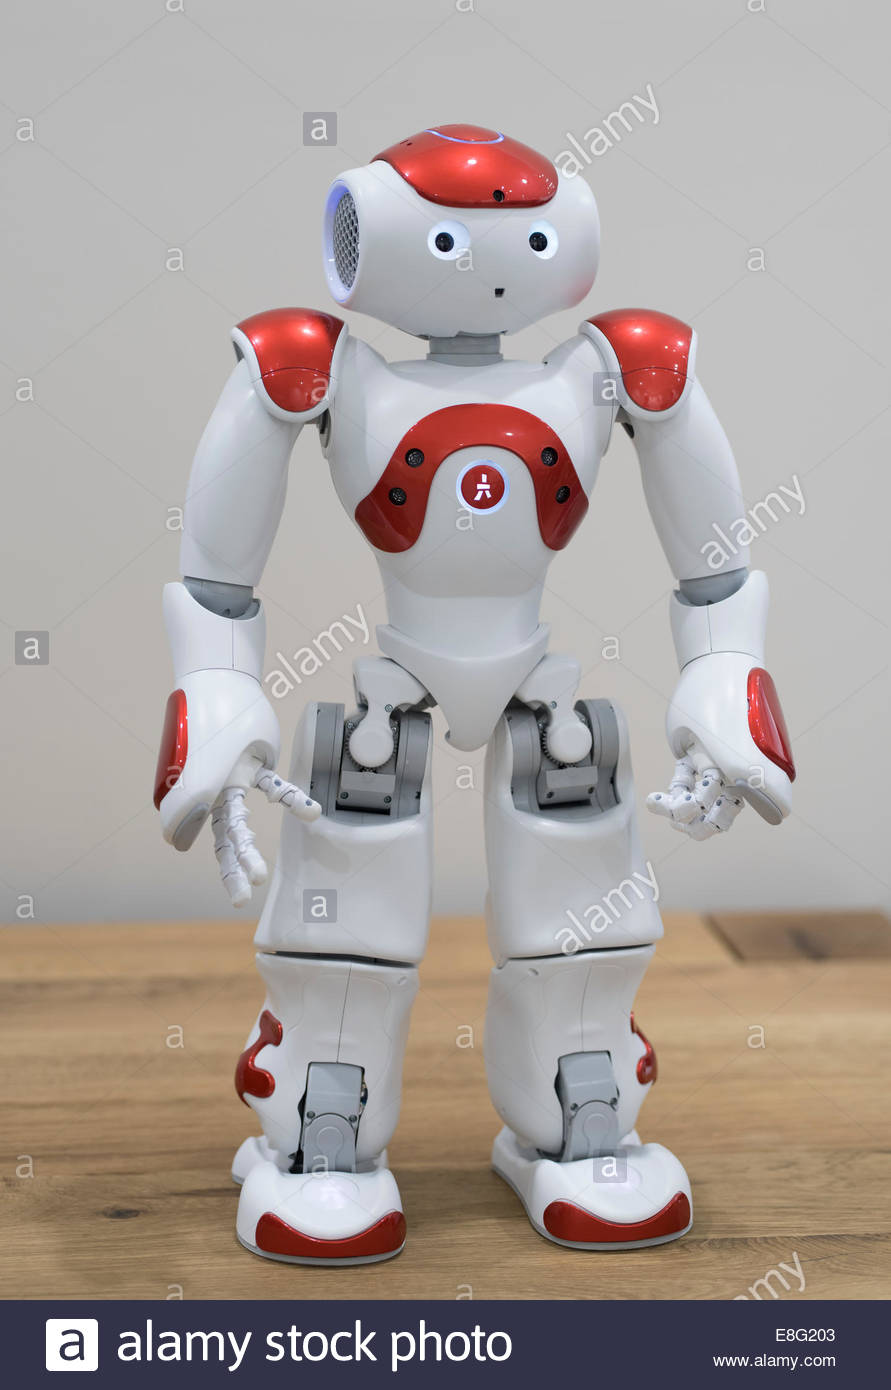nao: (105, 106, 841, 1268)
